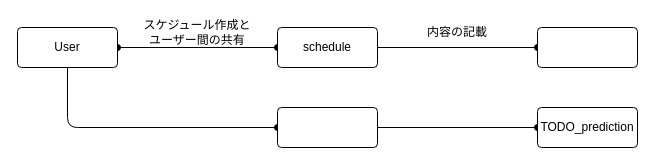
The diagram is 655 pixels wide and 165 high, and some of its shapes have lost their labels. The centre of each missing label's shape, as x and y in pixels:
"schedule_prediction" goes at (327,127).
"TODO" goes at (587,47).
